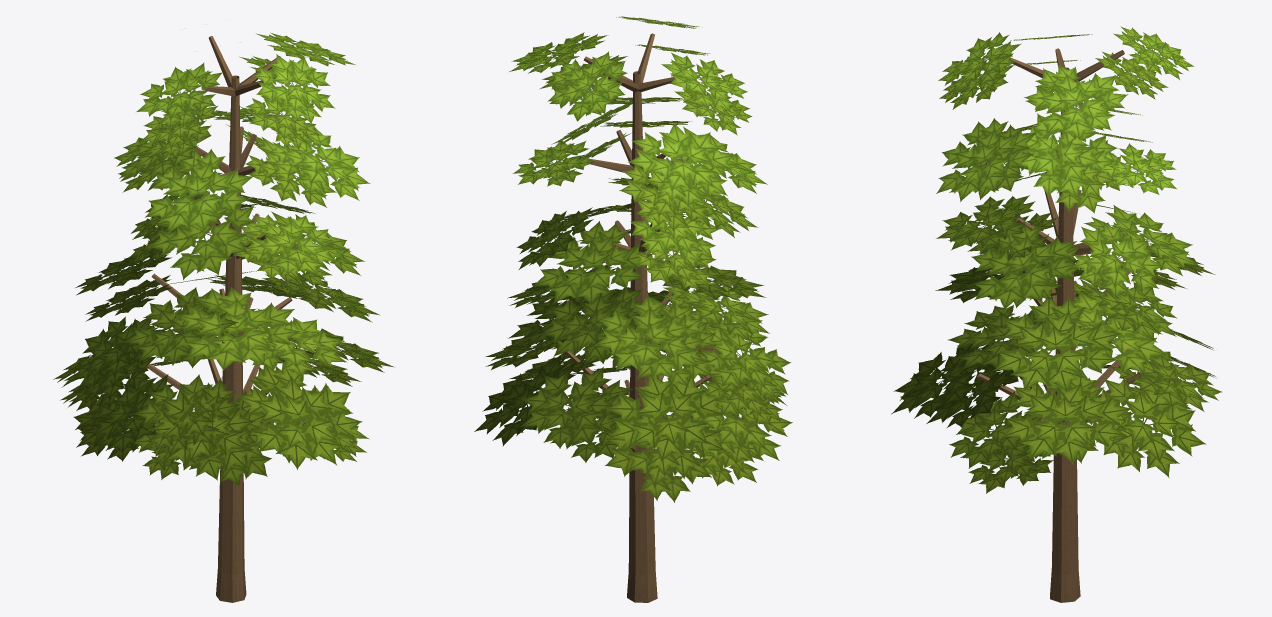
Rendered from maple2_a.glb.
3 views of the same model, side by side, from view 1: azimuth 30°, elevation 25°; view 2: azimuth 150°, elevation 25°; view 3: azimuth 270°, elevation 25° (orthographic). The views are drawn at different scales.
Visible parts, largest first — view 1: maple2_a; view 2: maple2_a; view 3: maple2_a.
Part boxes in pixels (left/top/right/bottom): maple2_a: left=53, top=32, right=394, bottom=602; maple2_a: left=474, top=16, right=792, bottom=602; maple2_a: left=891, top=26, right=1221, bottom=602.
Bounding box in the file's own units: 4.18 × 6.37 × 3.98.
2 materials, 2 textured.
